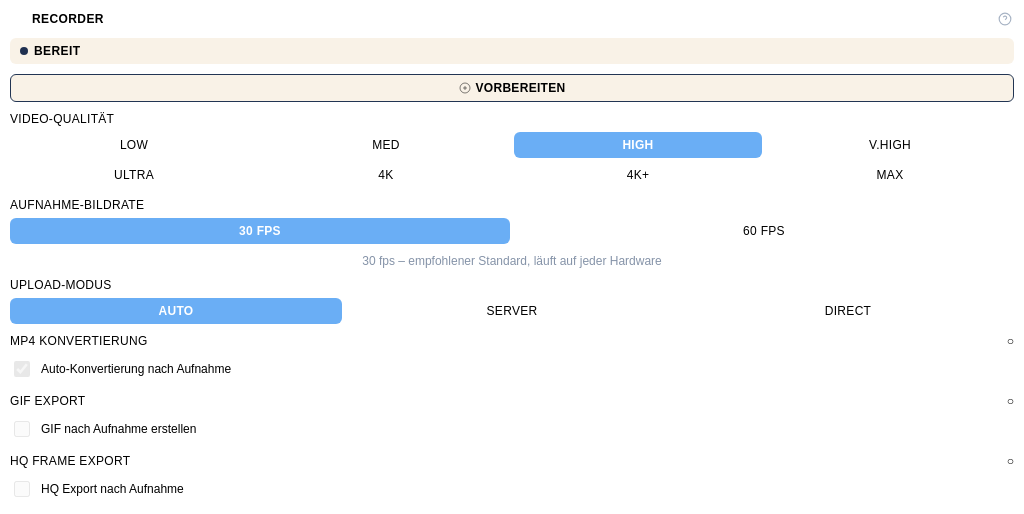
it: RecorderPanel – Status und Steuerknöpfe › Vorbereiten übergibt Qualität und Bildrate an den Store
The image size is (1024, 514).
Click the button with class "btn-prepare". click: (512, 88)
box: [10, 74, 1014, 102]
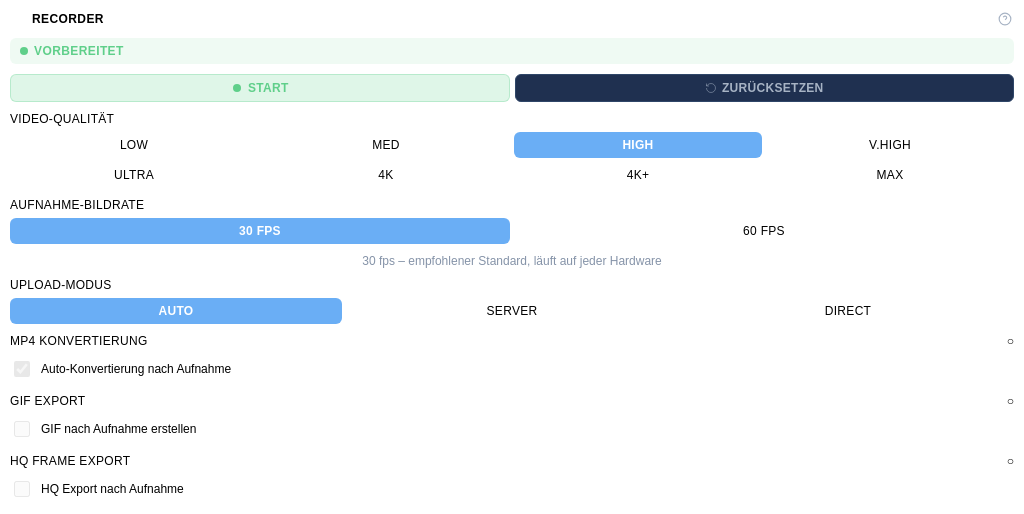
Expected: the text with class "status-text" reads "VORBEREITET", [34, 44, 124, 58]
